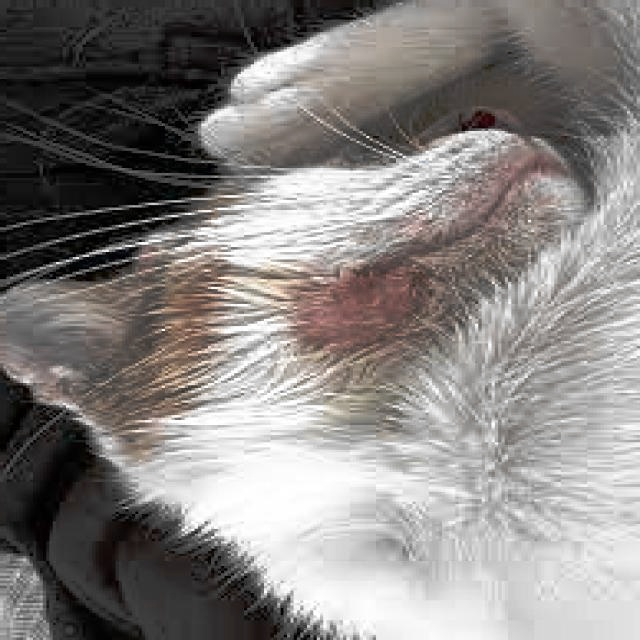ringworm: (310, 258, 421, 349)
